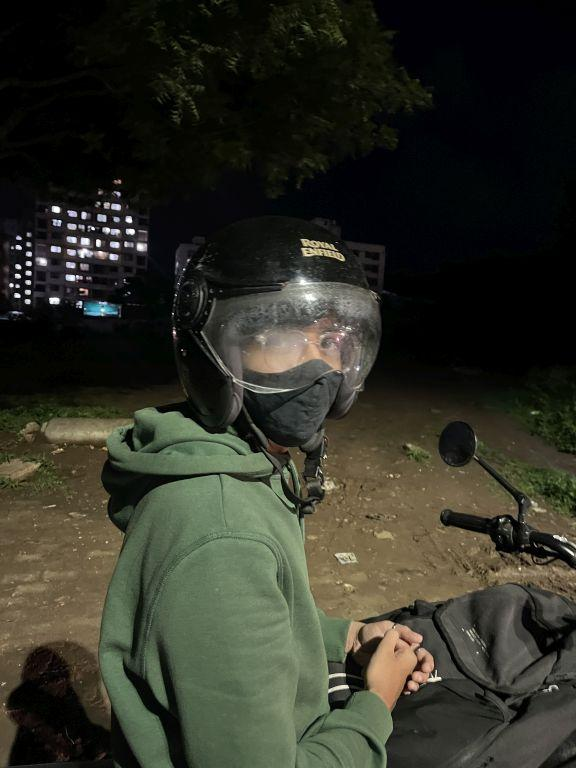helmet: (159, 195, 397, 466)
